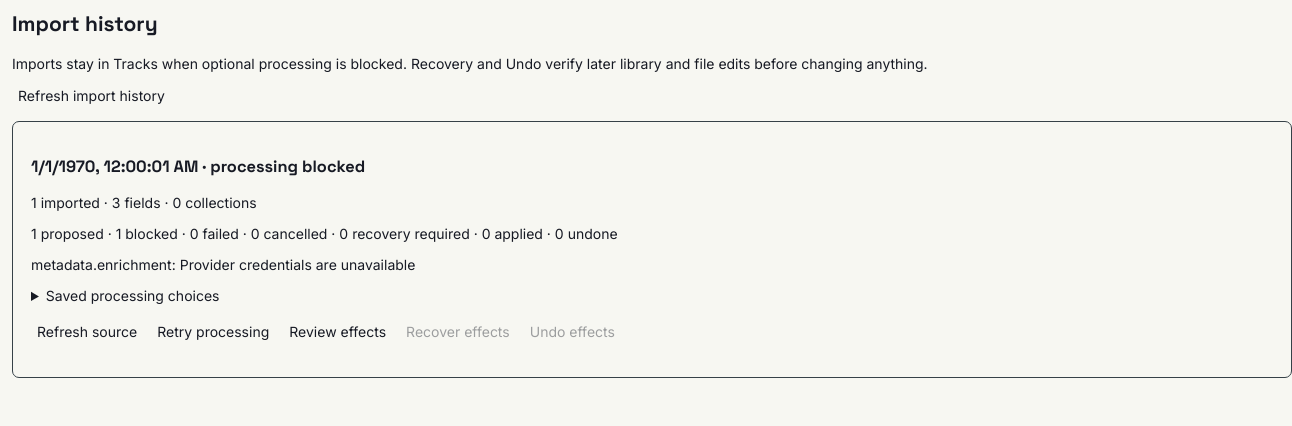
import refresh and recovery › a cancelled retry is not reported as successful processing
What coordinates should you click on to do the following:
click the button "Retry processing"
I would click on:
 (213, 331)
Its box is [151,322,275,341].
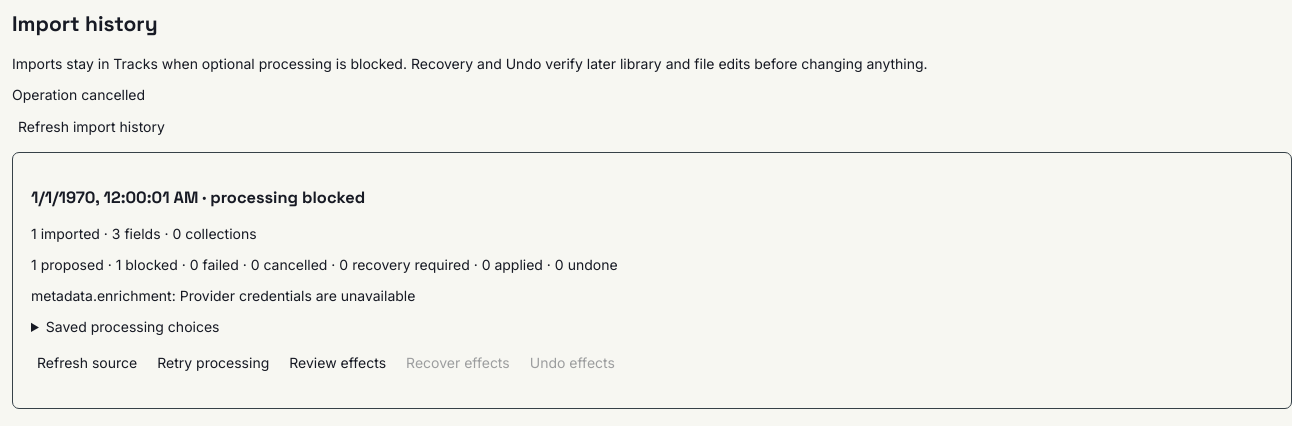
Now the message reads "Operation cancelled", box [12,86,145,103]
